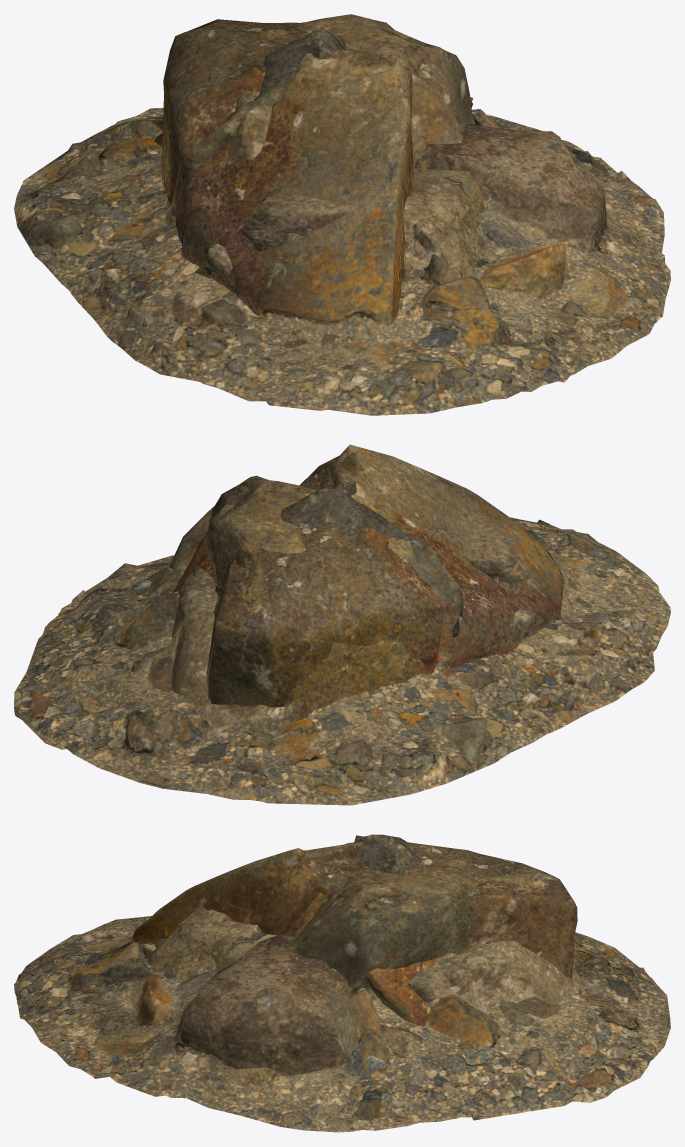
The model's file is sharp_rocks_set_rbov2.glb.
The picture shows the model from 3 angles, top to bottom: view 1: azimuth 30°, elevation 25°; view 2: azimuth 150°, elevation 25°; view 3: azimuth 270°, elevation 25°; orthographic projection. The views are drawn at different scales.
Parts seen in each view (by area): view 1: rbov2_LOD0_TIER2_000, rbov2_LOD0_TIER2_000_MatID_1_0_far, rbov2_LOD0_TIER2_002, rbov2_LOD0_TIER2_003, rbov2_LOD0_TIER2_002_MatID_1_0_far, rbov2_LOD0_TIER2_001, rbov2_LOD0_TIER2_001_MatID_1_0_far, rbov2_LOD0_TIER2_003_MatID_1_0_far; view 2: rbov2_LOD0_TIER2_000, rbov2_LOD0_TIER2_000_MatID_1_0_far, rbov2_LOD0_TIER2_002, rbov2_LOD0_TIER2_001, rbov2_LOD0_TIER2_002_MatID_1_0_far, rbov2_LOD0_TIER2_003, rbov2_LOD0_TIER2_003_MatID_1_0_far, rbov2_LOD0_TIER2_001_MatID_1_0_far; view 3: rbov2_LOD0_TIER2_000_MatID_1_0_far, rbov2_LOD0_TIER2_000, rbov2_LOD0_TIER2_003, rbov2_LOD0_TIER2_001, rbov2_LOD0_TIER2_003_MatID_1_0_far, rbov2_LOD0_TIER2_001_MatID_1_0_far, rbov2_LOD0_TIER2_002, rbov2_LOD0_TIER2_002_MatID_1_0_far.
Part boxes in pixels (x1=…): rbov2_LOD0_TIER2_000: x1=14, y1=19, x2=670, y2=415; rbov2_LOD0_TIER2_000_MatID_1_0_far: x1=14, y1=19, x2=670, y2=413; rbov2_LOD0_TIER2_002: x1=64, y1=29, x2=634, y2=381; rbov2_LOD0_TIER2_003: x1=234, y1=14, x2=664, y2=289; rbov2_LOD0_TIER2_002_MatID_1_0_far: x1=61, y1=30, x2=616, y2=347; rbov2_LOD0_TIER2_001: x1=75, y1=107, x2=484, y2=284; rbov2_LOD0_TIER2_001_MatID_1_0_far: x1=107, y1=108, x2=486, y2=280; rbov2_LOD0_TIER2_003_MatID_1_0_far: x1=230, y1=22, x2=663, y2=233; rbov2_LOD0_TIER2_000: x1=14, y1=444, x2=670, y2=805; rbov2_LOD0_TIER2_000_MatID_1_0_far: x1=14, y1=452, x2=670, y2=805; rbov2_LOD0_TIER2_002: x1=42, y1=481, x2=654, y2=739; rbov2_LOD0_TIER2_001: x1=126, y1=516, x2=536, y2=788; rbov2_LOD0_TIER2_002_MatID_1_0_far: x1=43, y1=493, x2=629, y2=740; rbov2_LOD0_TIER2_003: x1=71, y1=475, x2=438, y2=674; rbov2_LOD0_TIER2_003_MatID_1_0_far: x1=72, y1=489, x2=448, y2=671; rbov2_LOD0_TIER2_001_MatID_1_0_far: x1=143, y1=538, x2=533, y2=786; rbov2_LOD0_TIER2_000_MatID_1_0_far: x1=16, y1=842, x2=669, y2=1126; rbov2_LOD0_TIER2_000: x1=14, y1=842, x2=670, y2=1126; rbov2_LOD0_TIER2_003: x1=140, y1=859, x2=542, y2=1132; rbov2_LOD0_TIER2_001: x1=148, y1=909, x2=666, y2=1031; rbov2_LOD0_TIER2_003_MatID_1_0_far: x1=188, y1=858, x2=539, y2=1129; rbov2_LOD0_TIER2_001_MatID_1_0_far: x1=152, y1=906, x2=663, y2=1073; rbov2_LOD0_TIER2_002: x1=325, y1=834, x2=457, y2=1125; rbov2_LOD0_TIER2_002_MatID_1_0_far: x1=328, y1=842, x2=453, y2=1126.
Size of the model in its own units: 0.39 by 0.1436 by 0.4715.
Materials: 1 (1 with a texture image).
